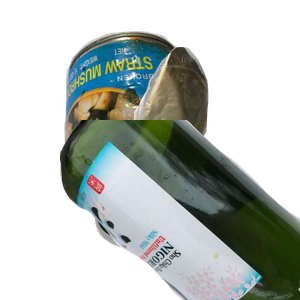glass: (60, 120, 300, 300)
metal: (60, 28, 300, 208)
plastic: (92, 176, 257, 300)
trash: (131, 44, 300, 189)
